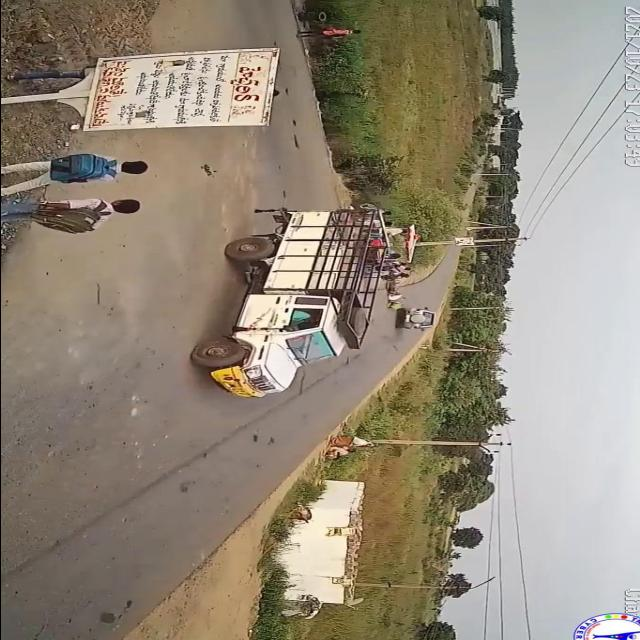accident: (376, 277, 436, 333)
